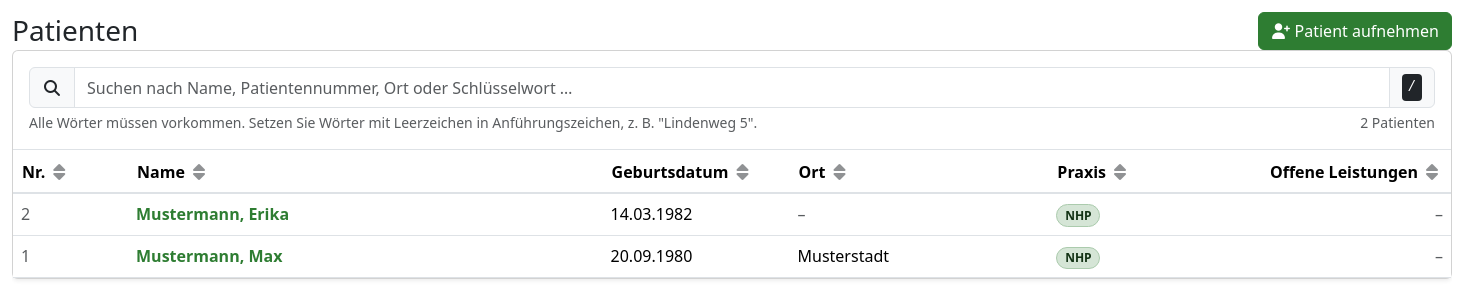
Test: Patienten › sollte die Patienten durchsuchen
Expected: the row "2 Mustermann, Erika 14.03.1982 – NHP –" is shown, [13,193,1451,235]
In the search field named "Patienten durchsuchen": (732, 88) [74,67,1390,108], type "erika"
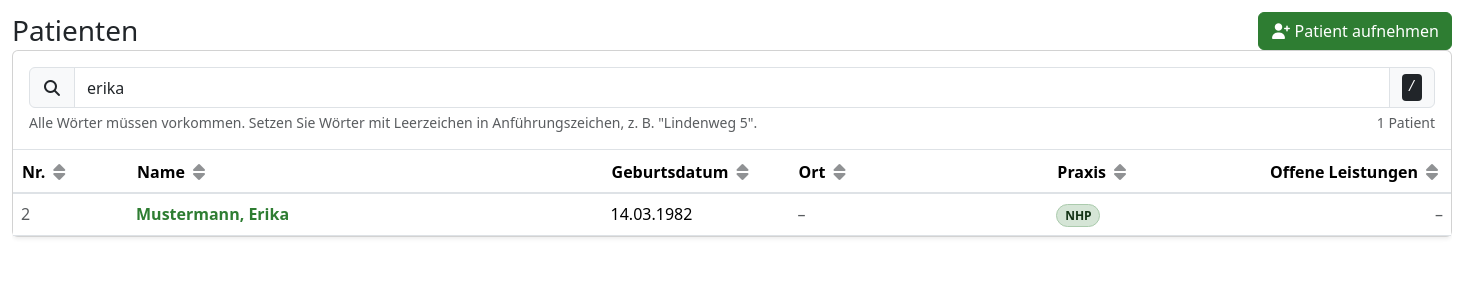
Expected: the row "2 Mustermann, Erika 14.03.1982 – NHP –" is shown, [13,193,1451,235]
Now the link "Mustermann, Max" is gone
